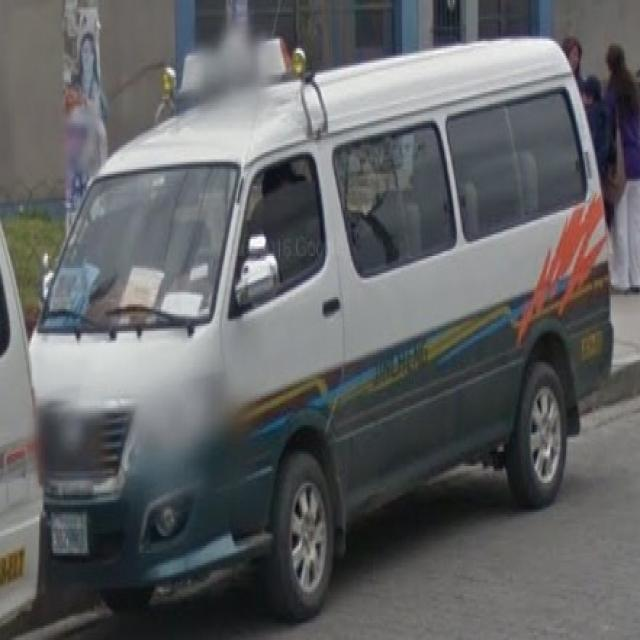cars: (27, 42, 621, 612)
